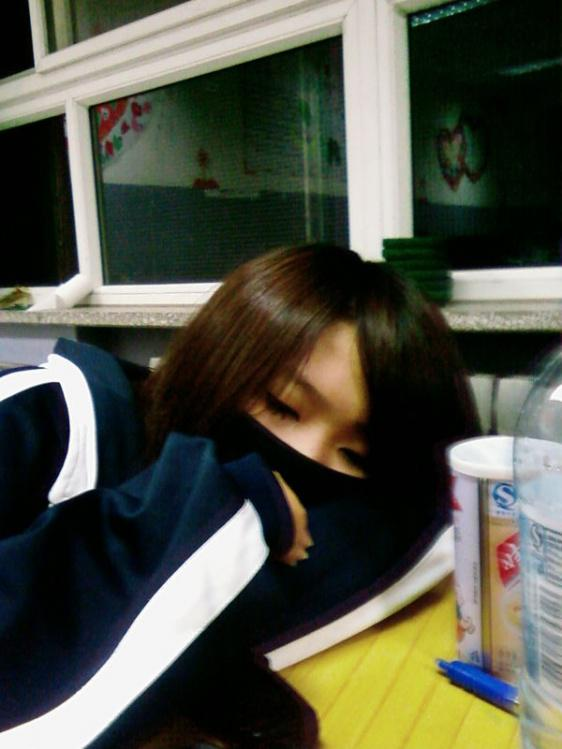OK: (202, 356, 401, 555)
